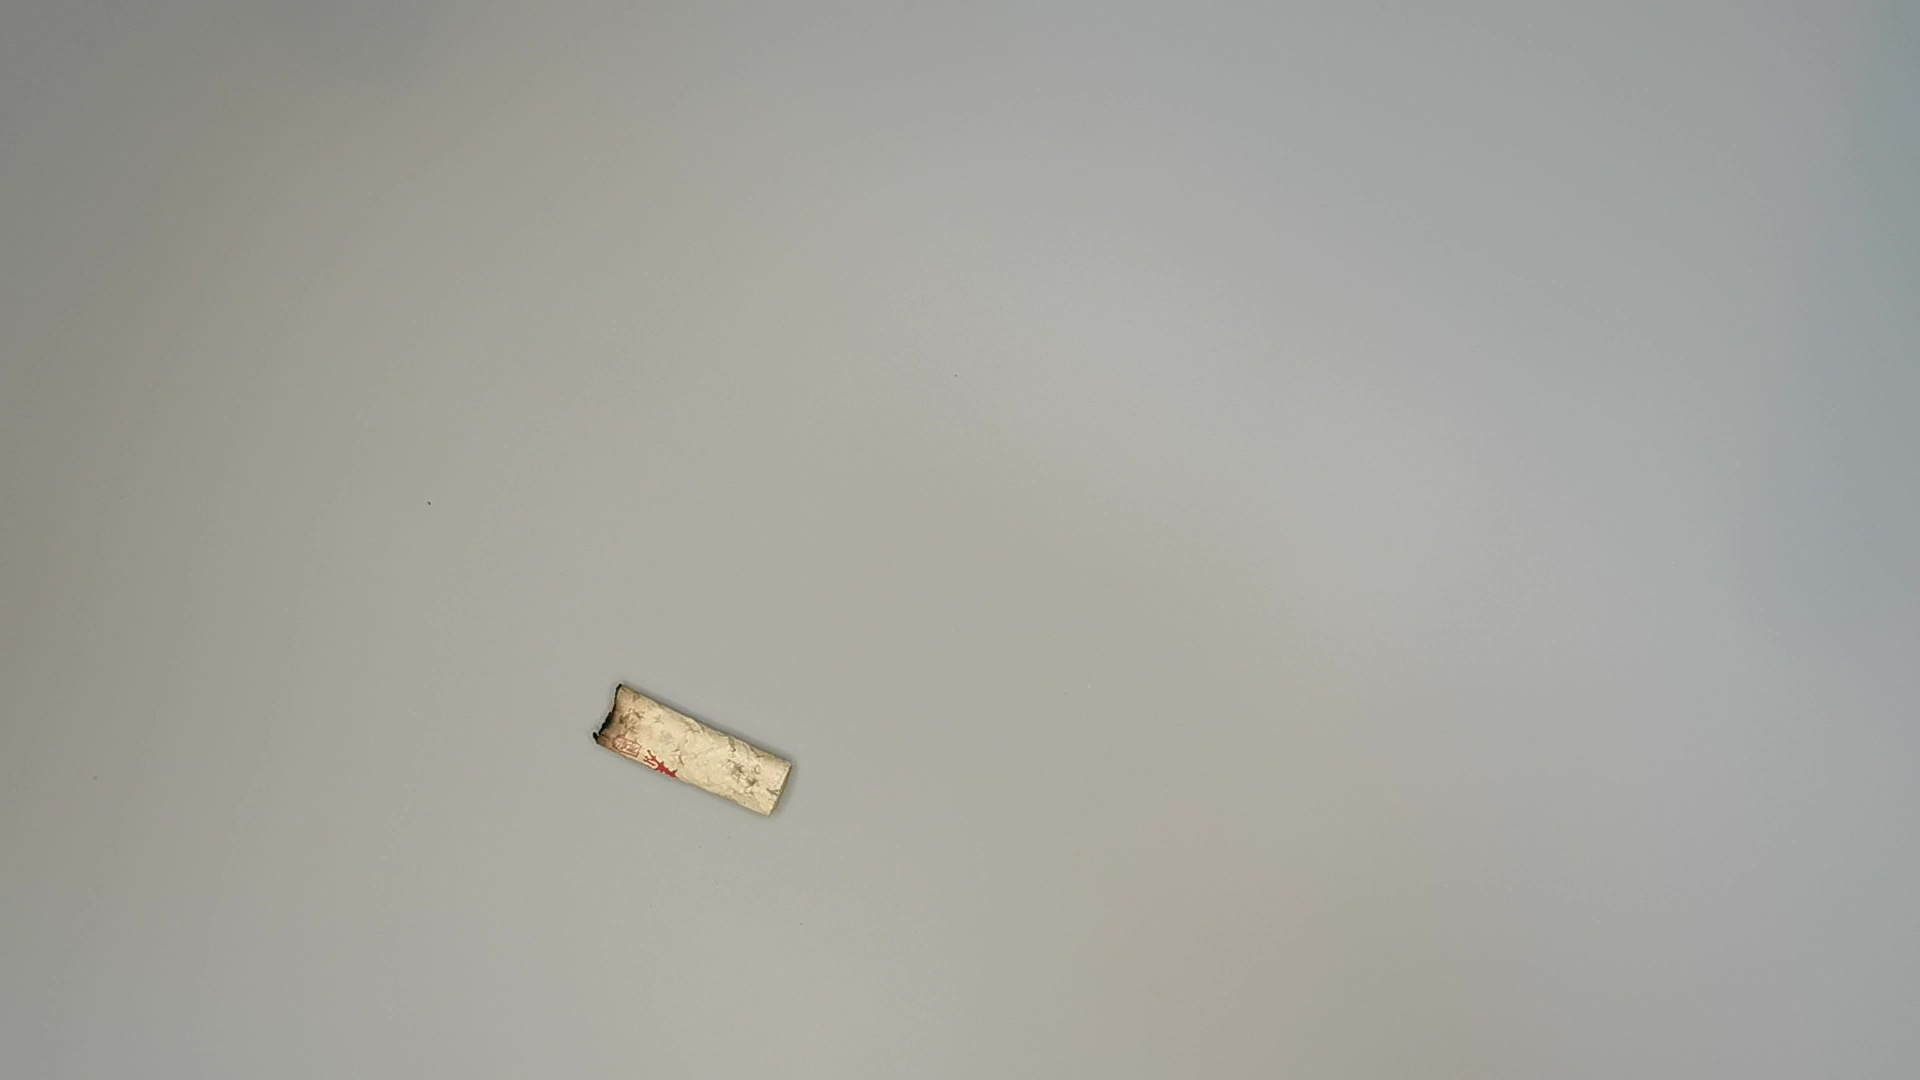cigarette: (593, 683, 807, 825)
